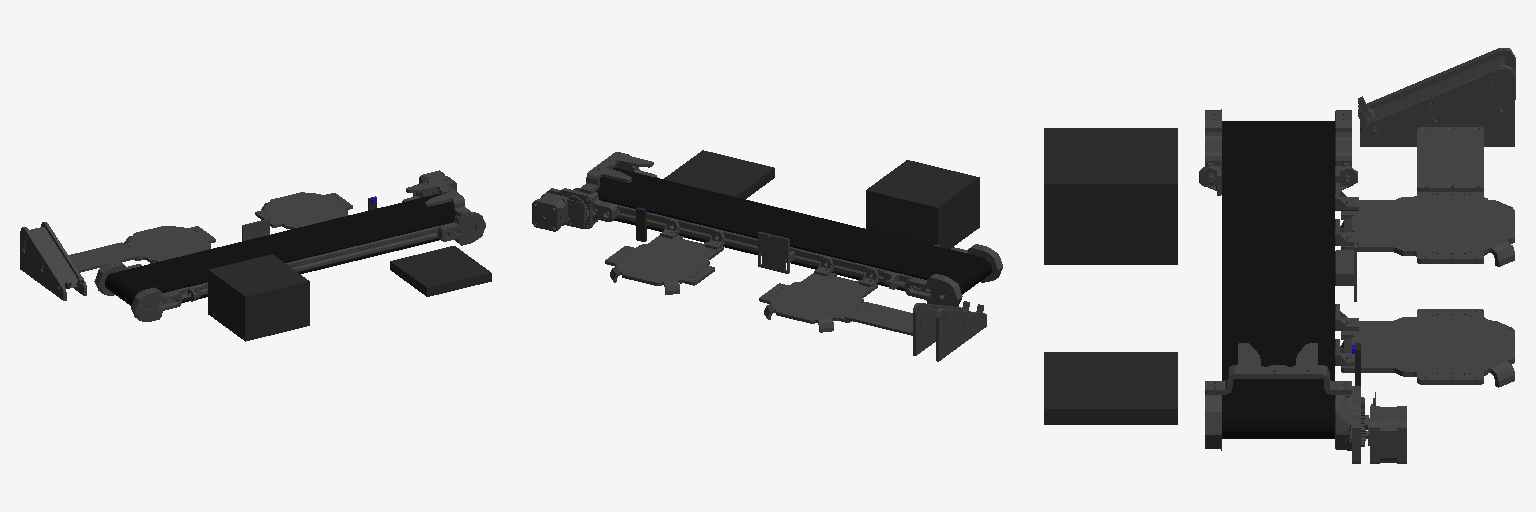
The robot description file, URDF, robot "conveyor":
<?xml version="1.0" ?>
<!-- =================================================================================== -->
<!-- |    This document was autogenerated by xacro from se_conveyor_uarm.urdf.xacro    | -->
<!-- |    EDITING THIS FILE BY HAND IS NOT RECOMMENDED                                 | -->
<!-- =================================================================================== -->
<robot name="conveyor">
  <link name="world"/>
  <joint name="fixed_world" type="fixed">
    <origin rpy="0 0 0" xyz="0 0 0.01"/>
    <parent link="world"/>
    <child link="frame_link"/>
  </joint>
  <!-- Fixed part -->
  <link name="frame_link">
    <static>true</static>
    <inertial>
      <origin rpy="1.57 0.0 0.0" xyz="0.0 0.0 0.025"/>
      <mass value="1"/>
      <inertia ixx="1" ixy="0.0" ixz="0.0" iyy="1" iyz="0.0" izz="1"/>
    </inertial>
    <visual>
      <origin rpy="1.57 0.0 0.0" xyz="0 0.0 0.025"/>
      <geometry>
        <mesh filename="package://conveyor/urdf/STL-Files/conveyor_description/conveyor.STL" scale="0.001 0.001 0.001"/>
      </geometry>
      <material name="">
        <color rgba="0.3 0.3 0.3 1"/>
      </material>
    </visual>
    <collision>
      <origin rpy="1.57 0.0 0.0" xyz="0 0.0 0.025"/>
      <geometry>
        <mesh filename="package://conveyor/urdf/STL-Files/conveyor_description/conveyor.STL" scale="0.001 0.001 0.001"/>
      </geometry>
    </collision>
  </link>
  <gazebo reference="frame_link">
    <material>Gazebo/Grey </material>
  </gazebo>
  <joint name="fixed" type="fixed">
    <origin rpy="0 0 0" xyz="0 0 0"/>
    <parent link="frame_link"/>
    <child link="conveyor_inertial"/>
  </joint>
  <link name="conveyor_inertial">
    <inertial>
      <mass value="4.5"/>
      <origin rpy="1.57 0 0" xyz="0 0.0075 0"/>
      <inertia ixx="1e-1" ixy="0" ixz="0" iyy="1e-1" iyz="0" izz="1e-1"/>
    </inertial>
  </link>
  <!--joint name="board_joint" type="fixed">
     <origin xyz="0.575 0 0.06" rpy="0 0 0"/>
     <limit effort="1000.0" lower="-0.635" upper="0" velocity="0.1"/>
     <parent link="frame_link"/>
     <child link="barrier_board"/>
   </joint>

   <link name="barrier_board">
    <collision>
     <origin xyz="0 0 0" rpy="0 0 0" />
     <geometry>
      <box size="0.003 0.04 0.02" />
     </geometry>
     <contact_coefficients mu="1.0" />
    </collision>

    <visual>
      <origin xyz="0 0 0" rpy="0 0 0"/>
     <geometry>
      <box size="0.003 0.05 0.025"/>
     </geometry>
      <material name = "">
		   <color rgba = "0.3 0.3 0.3 0.5" />
      </material>
    </visual>
   </link>
   
  <joint name="camera_joint" type="fixed">
    
    <origin xyz="-0.004 0 -0.008" rpy="3.14 3.14 0"/>
    <parent link="barrier_board"/>
    <child link="camera_link"/>
  </joint-->
  <!-- Camera -->
  <!--link name="camera_link">
    <collision>
      <origin xyz="0 0 0" rpy="0 0 0"/>
      <geometry>
       <box size="0.002 ${camera_link}  ${camera_link}"/>
      </geometry>
    </collision>

    <visual>
      <origin xyz="0 0 0" rpy="0 0 0"/>
      <geometry>
       <box size="0.002 ${camera_link}  ${camera_link}"/>
      </geometry>
      
    </visual>

    <inertial>
      <mass value="1e-5" />
      <origin xyz="0 0 0" rpy="0 0 0"/>
      <inertia ixx="1e-6" ixy="0" ixz="0" iyy="1e-6" iyz="0" izz="1e-6" />
    </inertial>
  </link-->
  <!-- camera pligin-->
  <!--gazebo reference="camera_link">
    <sensor type="camera" name="camera1">
      <update_rate>30.0</update_rate>
      <camera name="head">
        <horizontal_fov>1.3962634</horizontal_fov>
        <image>
          <width>400</width>
          <height>400</height>
          <format>R8G8B8</format>
        </image>
        <clip>
          <near>0.0021</near>
          <far>300</far>
        </clip>
        <noise>
          <type>gaussian</type>
          < Noise is sampled independently per pixel on each frame.
               That pixel's noise value is added to each of its color
               channels, which at that point lie in the range [0,1]. >
          <mean>0.0</mean>
          <stddev>0.007</stddev>
        </noise>
      </camera>
      <plugin name="camera_controller" filename="libgazebo_ros_camera.so">
        <alwaysOn>true</alwaysOn>
        <updateRate>0.0</updateRate>
        <cameraName>camera</cameraName>
        <imageTopicName>image_raw</imageTopicName>
        <cameraInfoTopicName>camera_info</cameraInfoTopicName>
        <frameName>camera_link</frameName>
        <hackBaseline>0.07</hackBaseline>
        <distortionK1>0.0</distortionK1>
        <distortionK2>0.0</distortionK2>
        <distortionK3>0.0</distortionK3>
        <distortionT1>0.0</distortionT1>
        <distortionT2>0.0</distortionT2>
      </plugin>
    </sensor>
    <material>Gazebo/Blue</material>
  </gazebo>

  <joint name="ultrasonic_2_link_joint" type="fixed">
    
    <origin xyz="-0.004 0 -0.002" rpy="3.14 3.14 0"/>
    <parent link="barrier_board"/>
    <child link="ultrasonic_2_link"/>
  </joint>

  <link name="ultrasonic_2_link">
    <collision>
      <origin xyz="0 0 0.0" rpy="0 0 0"/>
      <geometry>
       <box size="0.002 ${camera_link}  ${camera_link}"/>
      </geometry>
    </collision>

    <visual>
      <origin xyz="0 0 0" rpy="0 0 0"/>
      <geometry>
       <box size="0.002 ${camera_link}  ${camera_link}"/>
      </geometry>
    </visual>

    <inertial>
      <mass value="1e-5" />
      <origin xyz="0 0 0" rpy="0 0 0"/>
      <inertia ixx="1e-6" ixy="0" ixz="0" iyy="1e-6" iyz="0" izz="1e-6" />
    </inertial>
  </link>

   <gazebo reference="ultrasonic_2_link">
    <sensor type="ray" name="head_hokuyo_sensor_2">
      <pose>0 0 0 0 0 0</pose>
      <visualize>false</visualize>
      <update_rate>40</update_rate>
      <ray>
        <scan>
          <horizontal>
            <samples>180</samples>
            <resolution>1</resolution>
            <min_angle>-0.28</min_angle>
            <max_angle>0.28</max_angle>
          </horizontal>
        </scan>
        <range>
          <min>0.01</min>
          <max>30.0</max>
          <resolution>0.01</resolution>
        </range>
      </ray>
      <plugin filename="libgazebo_ros_range.so" name="gazebo_ros_range">
        <gaussianNoise>0.005</gaussianNoise>
        <updateRate>40</updateRate>
        <alwaysOn>true</alwaysOn>
        <topicName>/conveyor1/ultrasonic_2/scan</topicName>
        <frameName>sonar_link</frameName>
        <radiation>ultrasound</radiation>
        <fov>0.5</fov>
      </plugin>
    </sensor>
    <material>Gazebo/Blue</material>
  </gazebo-->
  <!-- Ultrasonic sensor visual-->
  <joint name="ultrasonic_joint" type="fixed">
    <axis xyz="0 0 0"/>
    <origin rpy="0 0 -1.57" xyz="0.470 0.0675 0.047"/>
    <parent link="frame_link"/>
    <child link="ultrasonic_link"/>
  </joint>
  <link name="ultrasonic_link">
    <collision>
      <origin rpy="0 0 0" xyz="0 0 0"/>
      <geometry>
        <box size="0.003 0.01 0.005"/>
      </geometry>
      <contact_coefficients mu="1.0"/>
    </collision>
    <visual>
      <origin rpy="0 0 0" xyz="0 0 0"/>
      <geometry>
        <box size="0.003 0.01 0.005"/>
      </geometry>
      <material name="">
        <color rgba="0.1 0.1 0.9 1"/>
      </material>
    </visual>
  </link>
  <gazebo reference="ultrasonic_link">
    <material>Gazebo/Blue</material>
  </gazebo>
  <!-- ultrasonic sensor plugin rosrange-->
  <gazebo reference="ultrasonic_link">
    <sensor name="head_hokuyo_sensor" type="ray">
      <pose>0 0 0 0 0 0</pose>
      <visualize>0</visualize>
      <update_rate>40</update_rate>
      <ray>
        <scan>
          <horizontal>
            <samples>180</samples>
            <resolution>1</resolution>
            <min_angle>-1.57</min_angle>
            <max_angle>1.57</max_angle>
          </horizontal>
        </scan>
        <range>
          <min>0.01</min>
          <max>30.0</max>
          <resolution>0.01</resolution>
        </range>
      </ray>
      <plugin filename="libgazebo_ros_range.so" name="gazebo_ros_range">
        <gaussianNoise>0.005</gaussianNoise>
        <updateRate>40</updateRate>
        <alwaysOn>0</alwaysOn>
        <topicName>/conveyor/ultrasonic/scan</topicName>
        <frameName>sonar_link</frameName>
        <radiation>ultrasound</radiation>
        <fov>0.5</fov>
      </plugin>
    </sensor>
  </gazebo>
  <link name="us_stand">
    <static>true</static>
    <inertial>
      <origin xyz="0.0 0.0 0.0"/>
      <mass value="0.1"/>
      <inertia ixx="0.000161" ixy="0.0" ixz="0.0" iyy="0.000161" iyz="0.0" izz="0.00024"/>
    </inertial>
    <visual>
      <origin xyz="0 0 0"/>
      <geometry>
        <box size="0.005 0.015 0.05"/>
      </geometry>
      <material name="grey">
        <color rgba="0.2 0.2 0.2 1"/>
      </material>
    </visual>
    <collision>
      <origin xyz="0 0 0"/>
      <geometry>
        <box size="0.005 0.015 0.05"/>
      </geometry>
    </collision>
  </link>
  <gazebo reference="us_stand">
    <material>Gazebo/Grey</material>
    <mu1>0.6</mu1>
    <mu2>0.6</mu2>
  </gazebo>
  <joint name="us_stand_joint" type="fixed">
    <parent link="ultrasonic_link"/>
    <child link="us_stand"/>
    <origin rpy="0 0 0" xyz="-0.004 0 -0.022"/>
  </joint>
  <!-- Ir sensor vidual -->
  <!--not used this time
  <joint name="ir_joint" type="fixed">
     <axis xyz="0 0 0" />
     <origin xyz="-0.085 0.0775 0.02" rpy="0 -0.47 1.57"/>
     <limit effort="1000.0" lower="-0.635" upper="0" velocity="0.1"/>
     <parent link="frame_link"/>
     <child link="ir_link"/>
  </joint>

  <link name="ir_link">
    <collision>
     <origin xyz="0 0 0" rpy="0 0 0" />
     <geometry>
      <box size="0.004 0.02 0.01" />
     </geometry>
     <contact_coefficients mu="1.0" />
    </collision>

    <visual>
      <origin xyz="0 0 0" rpy="0 0 0"/>
     <geometry>
      <box size="0.004 0.02 0.01"/>
     </geometry>
    </visual>
  </link>

  <gazebo reference="ir_link">
    <material>Gazebo/Blue</material>
  </gazebo>
  -->
  <!-- ir sensor plugin also rosrange -->
  <!-- not used this time
  <gazebo reference="ir_link">
    <sensor type="ray" name="head_hokuyo_sensor1">
      <pose>0 0 0 0 0 0</pose>
      <visualize>0</visualize>
      <update_rate>40</update_rate>
      <ray>
        <scan>
          <horizontal>
            <samples>10</samples>
            <resolution>1</resolution>
            <min_angle>-0.087</min_angle>
            <max_angle>0.087</max_angle>
          </horizontal>
        </scan>
        <range>
          <min>0.01</min>
          <max>30.0</max>
          <resolution>0.01</resolution>
        </range>
      </ray>
      <plugin filename="libgazebo_ros_range.so" name="gazebo_ros_range">
        <gaussianNoise>0.005</gaussianNoise>
        <updateRate>40</updateRate>
        <alwaysOn>0</alwaysOn>
        <topicName>/conveyor/ir/scan</topicName>
        <frameName>ir_link</frameName>
        <radiation>ultrasound</radiation>
        <fov>0.5</fov>
      </plugin>
    </sensor>
  </gazebo>
  -->
  <!-- Belt, moving part -->
  <joint name="belt_joint" type="prismatic">
    <parent link="frame_link"/>
    <child link="belt_link"/>
    <axis xyz="1 0 0"/>
    <!-- <limit effort="1000.0" lower="-0.05" upper="0.05" velocity="0.5"/> -->
    <limit effort="10.0" lower="-0.10" upper="0.10" velocity="0.1"/>
    <origin rpy="3.14 0 0" xyz="0.28 0.0 0.04"/>
  </joint>
  <link name="belt_link">
    <inertial>
      <origin rpy="0.0 0.0 0.0" xyz="0.0 0.0 0.0"/>
      <mass value="1"/>
      <inertia ixx="1" ixy="0.0" ixz="0.0" iyy="1" iyz="0.0" izz="1"/>
    </inertial>
    <!--visual>
      <origin rpy="0 0 0" xyz="0 0 0"/>
      <geometry>
	     <box size="0.6 0.09 0.002"/>
      </geometry>
    </visual-->
    <collision>
      <origin rpy="0 0 0" xyz="0 0 0"/>
      <geometry>
        <box size="0.6 0.09 0.002"/>
      </geometry>
    </collision>
  </link>
  <gazebo reference="belt_link">
    <mu1>0.6</mu1>
    <mu2>0.6</mu2>
    <material>Gazebo/White </material>
  </gazebo>
  <!-- beltplugin, from ariac -->
  <gazebo>
    <plugin filename="libROSConveyorBeltPlugin.so" name="conveyor_belt_plugin">
      <robot_namespace>/conveyor</robot_namespace>
      <link>belt_link</link>
      <update_rate>10</update_rate>
      <max_velocity>0.2</max_velocity>
    </plugin>
  </gazebo>
  <link name="uarm_stand">
    <static>true</static>
    <inertial>
      <origin xyz="0.0 0.0 0.0"/>
      <mass value="0.1"/>
      <inertia ixx="0.000161" ixy="0.0" ixz="0.0" iyy="0.000161" iyz="0.0" izz="0.00024"/>
    </inertial>
    <visual>
      <origin xyz="0 0 0"/>
      <geometry>
        <box size="0.12 0.12 0.08"/>
      </geometry>
      <material name="grey">
        <color rgba="0.2 0.2 0.2 1"/>
      </material>
    </visual>
    <collision>
      <origin xyz="0 0 0"/>
      <geometry>
        <box size="0.12 0.12 0.08"/>
      </geometry>
    </collision>
  </link>
  <gazebo reference="uarm_stand">
    <material>Gazebo/Grey</material>
    <mu1>0.6</mu1>
    <mu2>0.6</mu2>
  </gazebo>
  <joint name="uarm_stand_joint" type="fixed">
    <parent link="frame_link"/>
    <child link="uarm_stand"/>
    <origin rpy="0 0 0" xyz="0.13 -0.15 0.04"/>
  </joint>
  <link name="uarm_stand2">
    <static>true</static>
    <inertial>
      <origin xyz="0.0 0.0 0.0"/>
      <mass value="0.1"/>
      <inertia ixx="0.000161" ixy="0.0" ixz="0.0" iyy="0.000161" iyz="0.0" izz="0.00024"/>
    </inertial>
    <visual>
      <origin xyz="0 0 0"/>
      <geometry>
        <box size="0.12 0.12 0.016"/>
      </geometry>
      <material name="grey">
        <color rgba="0.2 0.2 0.2 1"/>
      </material>
    </visual>
    <collision>
      <origin xyz="0 0 0"/>
      <geometry>
        <box size="0.12 0.12 0.016"/>
      </geometry>
    </collision>
  </link>
  <gazebo reference="uarm_stand2">
    <material>Gazebo/Grey</material>
    <mu1>0.6</mu1>
    <mu2>0.6</mu2>
  </gazebo>
  <joint name="uarm_stand_joint2" type="fixed">
    <parent link="frame_link"/>
    <child link="uarm_stand2"/>
    <origin rpy="0 0 0" xyz="0.47 -0.15 0.008"/>
  </joint>
  <!--link name="tag_link">
    <static>true</static>
    <inertial>
      <origin xyz="0.0 0.0 0.0" />
      <mass value="0.05" />
      <inertia  ixx="0.000005" ixy="0.0"  ixz="0.0"  iyy="0.000005"  iyz="0.0"  izz="0.000005" />
    </inertial>
    <visual>
      <origin xyz="0 0 0"/>
      <geometry>
		<mesh filename="package://conveyor/materials/textures/tag_dict_10.dae" scale="0.5 1 1"/>
      </geometry>
    </visual>
    <collision>
      <origin xyz="0 0 0"/>
      <geometry>
		<mesh filename="package://conveyor/materials/textures/tag_dict_10.dae" scale="0.5 1 1"/>
      </geometry>

    </collision>
  </link>
<joint name="tag_to_frame" type="fixed">
  <parent link="frame_link" />
  <child link="tag_link" />
  <origin rpy="0 0 -1.570796327" xyz="0.0 -0.071 0.03" />
</joint>
  <gazebo reference="tag_link">
    <mu1>0.6</mu1>
    <mu2>0.6</mu2>
  </gazebo>

<joint name="tag_background_to_tag" type="fixed">
  <parent link="tag_link" />
  <child link="tag_background_link" />
  <origin rpy="0 0 0" xyz="-0.0005 0.0 0.0" />
</joint>  
<link name="tag_background_link">
    <static>true</static>
    <inertial>
      <origin xyz="0.0 0.0 0.0" />
      <mass value="0.05" />
      <inertia  ixx="0.000005" ixy="0.0"  ixz="0.0"  iyy="0.000005"  iyz="0.0"  izz="0.000005" />
    </inertial>
    <visual>
      <origin xyz="0 0 0"/>
      <geometry>
        <box size="0.001 0.08 0.08" />
      </geometry>
      <material name="white">
        <color rgba="1 1 1 1"/>
      </material>
    </visual>
    <collision>
      <origin xyz="0 0 0"/>
      <geometry>
        <box size="0.001 0.08 0.08" />
      </geometry>

    </collision>
  </link>
  <gazebo reference="tag_background_link">
    <material>Gazebo/White</material>
    <mu1>0.6</mu1>
    <mu2>0.6</mu2>
  </gazebo-->
  <link name="belt_box1">
    <visual>
      <geometry>
        <box size="0.609 0.102 0.003"/>
      </geometry>
      <material name="">
        <color rgba="0.1 0.1 0.1 1"/>
      </material>
    </visual>
  </link>
  <gazebo reference="belt_box1">
    <mu1 value="0.0"/>
    <mu2 value="0.0"/>
    <material>Gazebo/DarkGrey</material>
  </gazebo>
  <joint name="fix_box1" type="fixed">
    <origin rpy="0 0 0" xyz="0.275 0 0.0383"/>
    <parent link="frame_link"/>
    <child link="belt_box1"/>
  </joint>
  <link name="belt_box2">
    <visual>
      <geometry>
        <box size="0.609 0.102 0.0035"/>
      </geometry>
      <material name="">
        <color rgba="0.1 0.1 0.1 1"/>
      </material>
    </visual>
  </link>
  <gazebo reference="belt_box2">
    <mu1 value="0.0"/>
    <mu2 value="0.0"/>
    <material>Gazebo/DarkGrey</material>
  </gazebo>
  <joint name="fix_box2" type="fixed">
    <origin rpy="0 0 0" xyz="0.275 0 0.0122"/>
    <parent link="frame_link"/>
    <child link="belt_box2"/>
  </joint>
  <link name="belt_cyl1">
    <visual>
      <origin rpy="1.570796327 0 0" xyz="0 0 0"/>
      <geometry>
        <cylinder length="0.102" radius="0.015"/>
      </geometry>
      <material name="">
        <color rgba="0.1 0.1 0.1 1"/>
      </material>
    </visual>
  </link>
  <gazebo reference="belt_cyl1">
    <mu1 value="0.0"/>
    <mu2 value="0.0"/>
    <material>Gazebo/DarkGrey</material>
  </gazebo>
  <joint name="fix_cyl1" type="fixed">
    <origin rpy="0 0 0" xyz="-0.0275 0 0.025"/>
    <parent link="frame_link"/>
    <child link="belt_cyl1"/>
  </joint>
  <link name="belt_cyl2">
    <visual>
      <origin rpy="1.570796327 0 0" xyz="0 0 0"/>
      <geometry>
        <cylinder length="0.102" radius="0.015"/>
      </geometry>
      <material name="">
        <color rgba="0.1 0.1 0.1 1"/>
      </material>
    </visual>
  </link>
  <gazebo reference="belt_cyl2">
    <mu1 value="0.0"/>
    <mu2 value="0.0"/>
    <material>Gazebo/DarkGrey</material>
  </gazebo>
  <joint name="fix_cyl2" type="fixed">
    <origin rpy="0 0 0" xyz="0.5782 0 0.025"/>
    <parent link="frame_link"/>
    <child link="belt_cyl2"/>
  </joint>
  <gazebo>
    <plugin filename="libgazebo_ros_control.so" name="gazebo_ros_control">
      <!--robotNamespace>/</robotNamespace-->
    </plugin>
  </gazebo>
</robot>

--- What the picture shows (computed from the rendered views, not written in the file) ---
3 views of the same robot in one strip: view 1: azimuth 30°, elevation 25°; view 2: azimuth 150°, elevation 25°; view 3: azimuth 270°, elevation 25° (orthographic).
Model conveyor with 12 links and 11 joints (1 prismatic, 10 fixed), rooted at world, posed every joint at zero.
Visible links, largest first — view 1: frame_link, belt_box1, uarm_stand, uarm_stand2, belt_cyl1; view 2: frame_link, belt_box1, uarm_stand, uarm_stand2, belt_cyl1, belt_box2; view 3: frame_link, belt_box1, uarm_stand, uarm_stand2, belt_cyl2.
Link boxes in pixels (x1,y1,x2,y2): frame_link: [20, 170, 485, 321]; belt_box1: [115, 194, 456, 292]; uarm_stand: [208, 254, 309, 341]; uarm_stand2: [390, 246, 491, 296]; belt_cyl1: [105, 273, 138, 305]; frame_link: [532, 152, 1002, 361]; belt_box1: [596, 169, 980, 279]; uarm_stand: [866, 160, 979, 248]; uarm_stand2: [664, 150, 774, 198]; belt_cyl1: [952, 257, 991, 294]; belt_box2: [614, 218, 904, 290]; frame_link: [1199, 48, 1515, 463]; belt_box1: [1222, 124, 1334, 406]; uarm_stand: [1044, 128, 1177, 264]; uarm_stand2: [1044, 352, 1177, 424]; belt_cyl2: [1222, 407, 1334, 438].
Bounding box of the posed robot: 0.7321 × 0.423 × 0.0813 m (x, y, z).
1 mesh visuals loaded from 1 distinct referenced files (1 binary STL).
